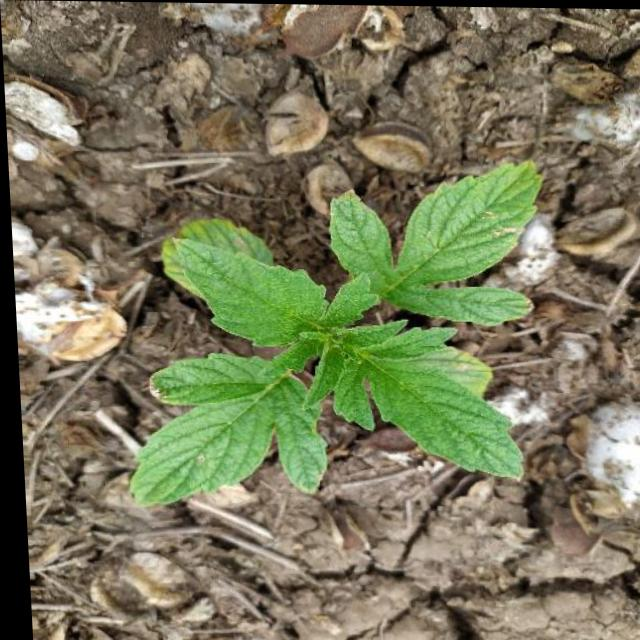crop: (84, 146, 573, 517)
